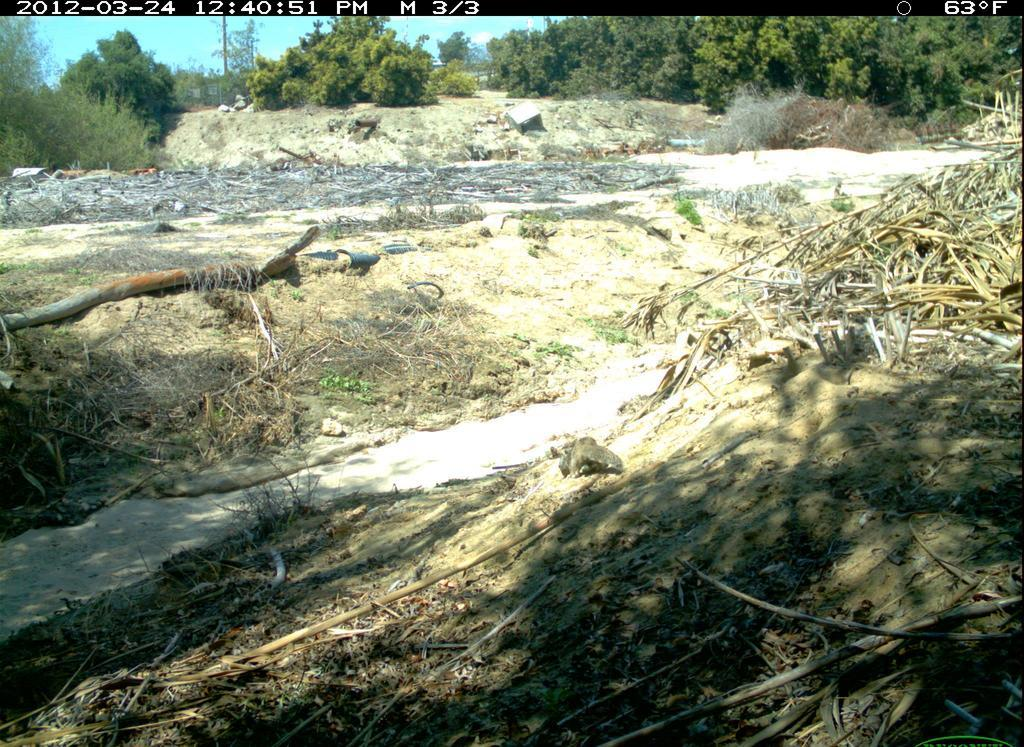squirrel: (560, 423, 630, 484)
